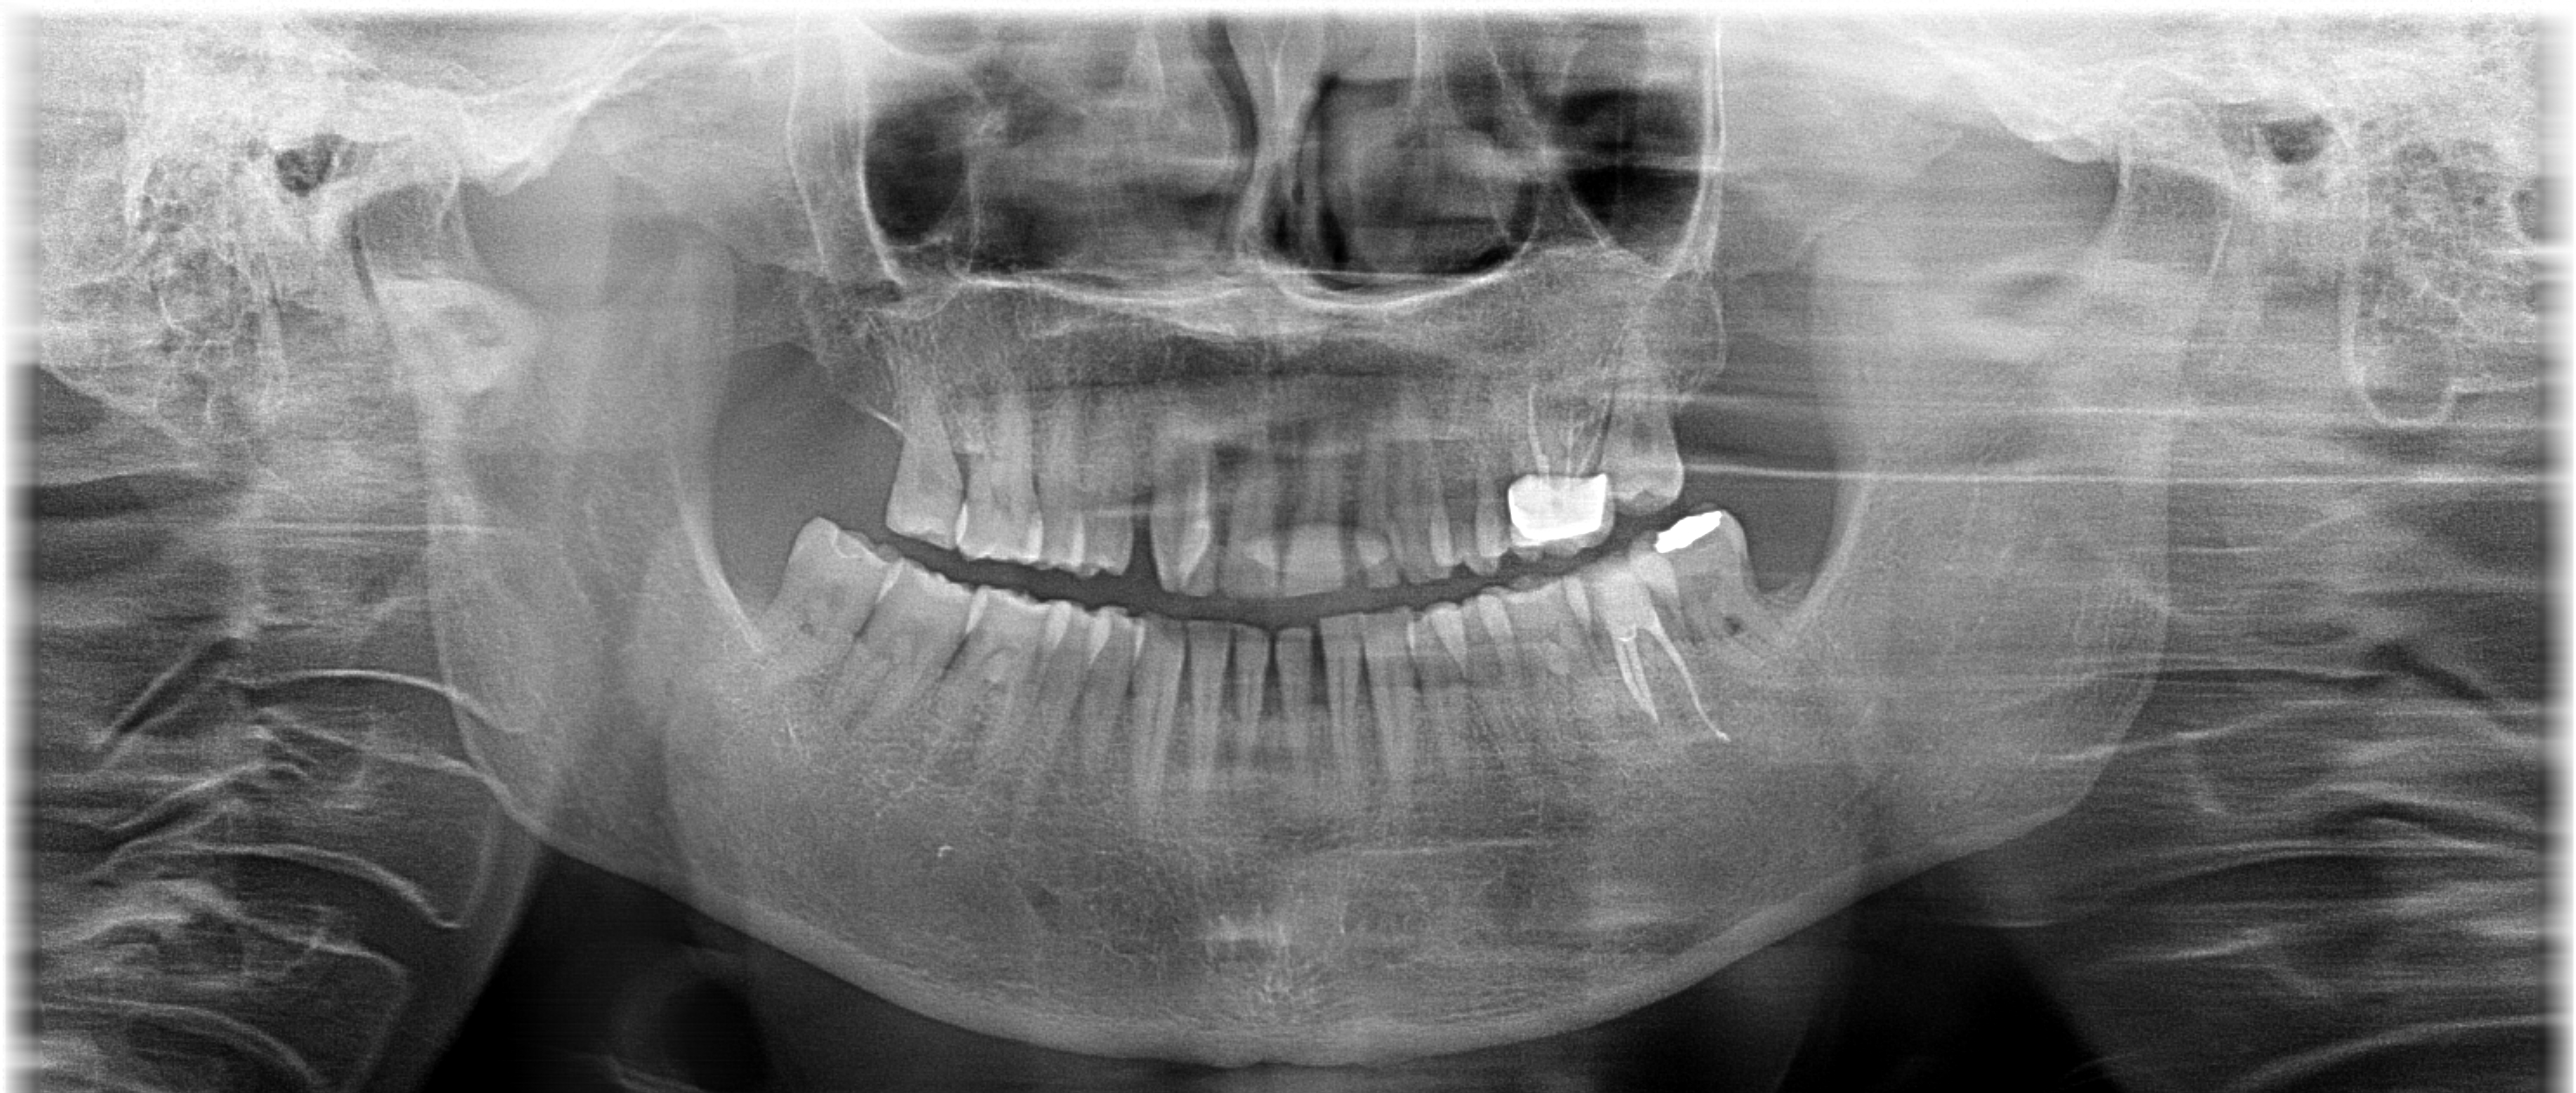apinamiento: (1406, 551, 1718, 656)
cordal: (733, 491, 902, 713), (1640, 501, 1835, 685)
tratamiento_conducto: (1483, 360, 1636, 575)
